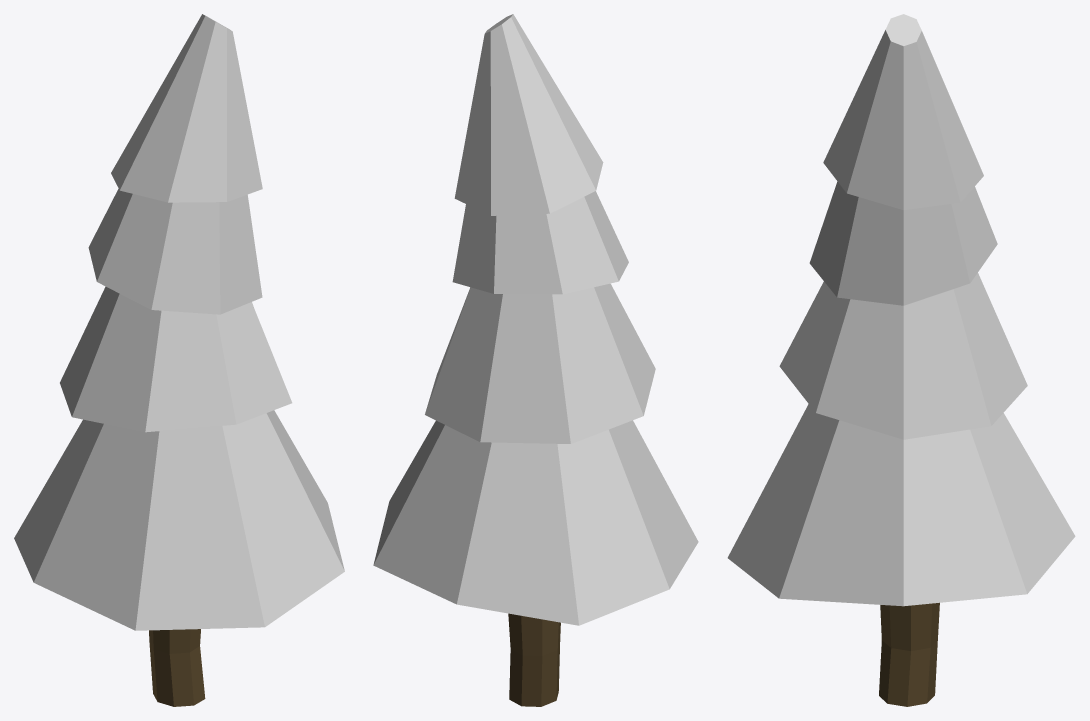
The model's file is tree_01.fbx.
The picture shows the model from 3 angles, left to right: view 1: azimuth 30°, elevation 25°; view 2: azimuth 150°, elevation 25°; view 3: azimuth 270°, elevation 25°; orthographic projection. The views are drawn at different scales.
Visible parts, largest first — view 1: Cylinder; view 2: Cylinder; view 3: Cylinder.
Boxes of the visible parts, x1,y1,x2,y2 form: Cylinder: (14, 14, 344, 706); Cylinder: (373, 14, 698, 706); Cylinder: (727, 14, 1075, 706).
Bounding box in the file's own units: 616 × 1381 × 627.
